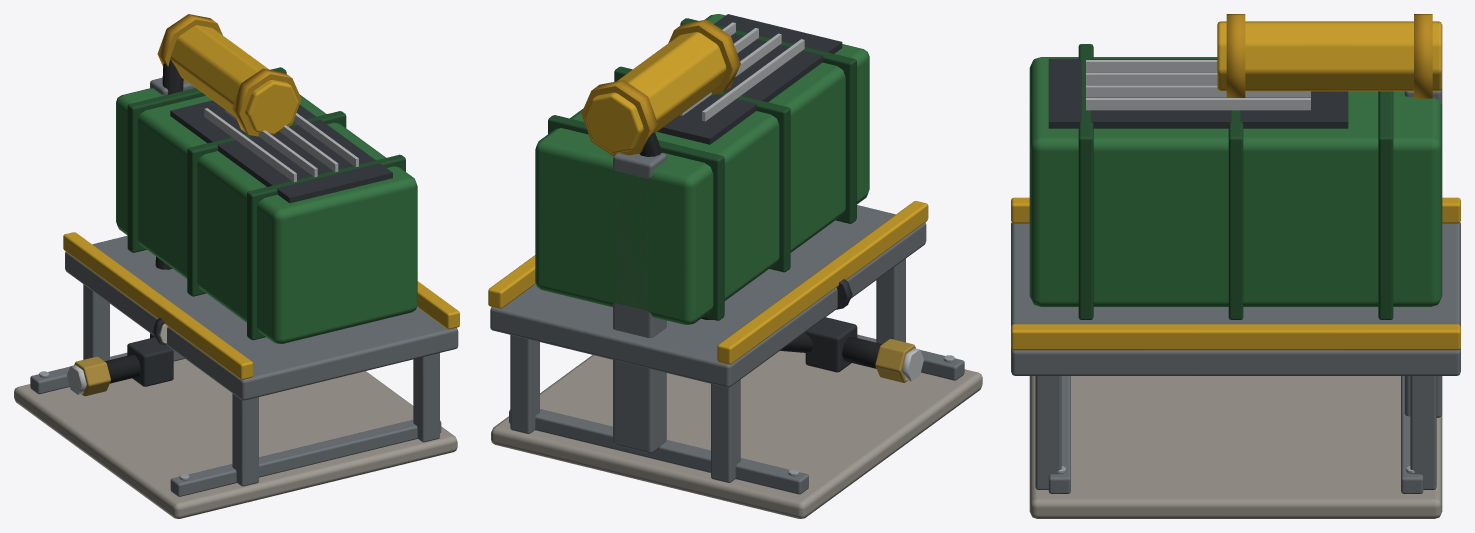
File: pp_baler.glb
3 views of the same model, side by side, from view 1: azimuth 30°, elevation 25°; view 2: azimuth 150°, elevation 25°; view 3: azimuth 270°, elevation 25° (orthographic). The views are drawn at different scales.
Parts seen in each view (by area): view 1: block.011, block.001, block.004, block.015, cyl.001, block.009, block.002, block.012, block.014, block.013, block.006, block.005 (+13 smaller); view 2: block.011, block.001, block.004, cyl.001, block.020, block.015, block.009, block.003, block.014, block.008, block.007, block.012 (+12 smaller); view 3: block.011, block.001, block.004, cyl.001, block.010, block.015, block.012, block.014, block.013, block.019, block.005, block.007 (+9 smaller).
Boxes of the visible parts, left/top/right/bottom form: block.011: left=116, top=88, right=417, bottom=343; block.001: left=14, top=359, right=457, bottom=518; block.004: left=65, top=235, right=458, bottom=400; block.015: left=170, top=100, right=392, bottom=203; cyl.001: left=170, top=25, right=298, bottom=134; block.009: left=63, top=232, right=253, bottom=379; block.002: left=170, top=420, right=441, bottom=496; block.012: left=247, top=154, right=405, bottom=340; block.014: left=127, top=67, right=286, bottom=252; block.013: left=187, top=111, right=346, bottom=296; block.006: left=232, top=393, right=258, bottom=486; block.005: left=413, top=353, right=439, bottom=442; block.011: left=535, top=14, right=869, bottom=324; block.001: left=491, top=351, right=982, bottom=518; block.004: left=490, top=205, right=926, bottom=387; cyl.001: left=584, top=32, right=726, bottom=153; block.020: left=613, top=153, right=666, bottom=453; block.015: left=657, top=14, right=842, bottom=144; block.009: left=717, top=201, right=928, bottom=364; block.003: left=509, top=409, right=808, bottom=494; block.014: left=548, top=115, right=724, bottom=320; block.008: left=711, top=380, right=740, bottom=482; block.007: left=510, top=335, right=539, bottom=433; block.012: left=680, top=18, right=856, bottom=223; block.011: left=1029, top=57, right=1442, bottom=306; block.001: left=1029, top=376, right=1442, bottom=518; block.004: left=1011, top=222, right=1460, bottom=375; cyl.001: left=1217, top=21, right=1442, bottom=91; block.010: left=1011, top=324, right=1460, bottom=350; block.015: left=1048, top=58, right=1348, bottom=128; block.012: left=1078, top=44, right=1093, bottom=319; block.014: left=1378, top=91, right=1393, bottom=319; block.013: left=1228, top=110, right=1243, bottom=319; block.019: left=1086, top=98, right=1310, bottom=110; block.005: left=1035, top=376, right=1061, bottom=489; block.007: left=1410, top=376, right=1436, bottom=489.
Bounding box in the file's own units: 1.18 × 1.29 × 1.2.
